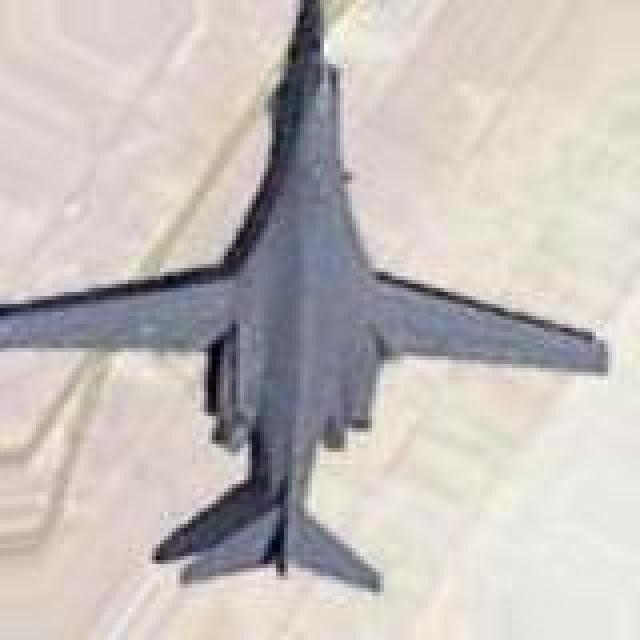B-1_TopDown: (0, 0, 608, 592)
